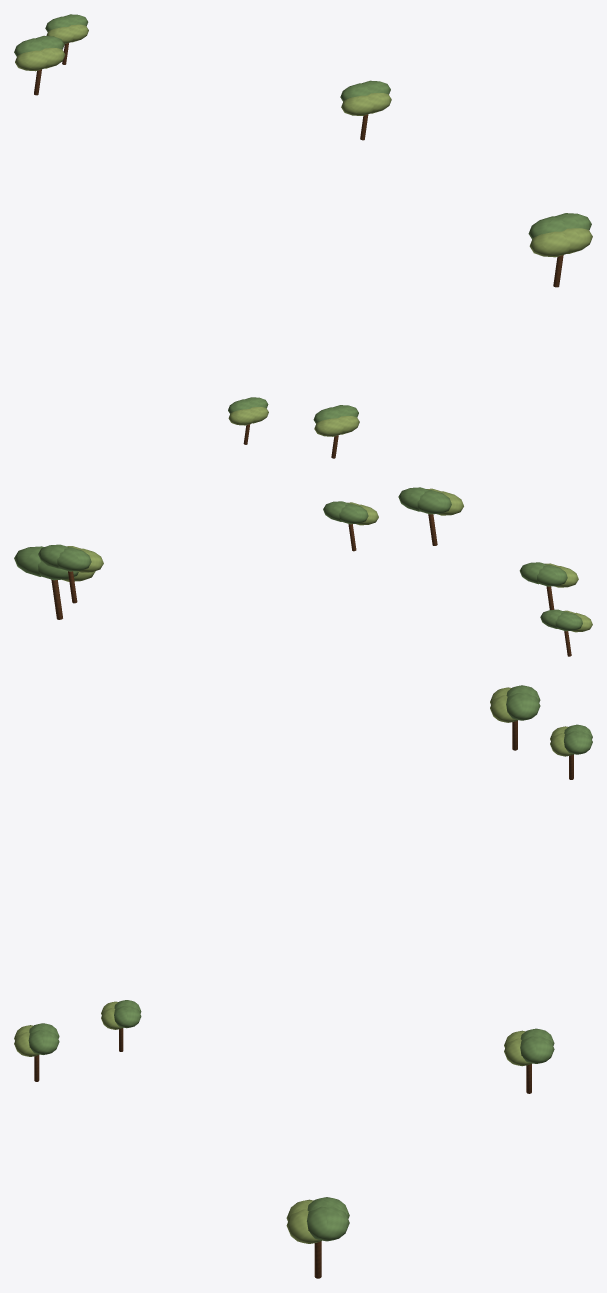
File: Coastal_Trees.fbx
3 renders of one model, top to bottom at view 1: azimuth 30°, elevation 25°; view 2: azimuth 150°, elevation 25°; view 3: azimuth 270°, elevation 25°, orthographic. The views are drawn at different scales.
Visible parts, largest first — view 1: Coastal_Trees; view 2: Coastal_Trees; view 3: Coastal_Trees.
Boxes of the visible parts, x1,y1,x2,y2 form: Coastal_Trees: [14, 14, 592, 458]; Coastal_Trees: [14, 487, 592, 656]; Coastal_Trees: [14, 685, 592, 1278].
Size of the model in its own units: 4763 by 4115 by 2658.
